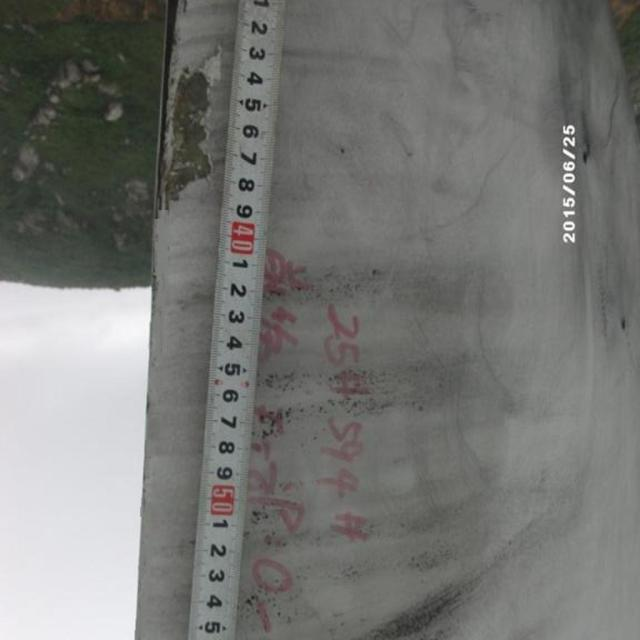surface_peeling: (151, 66, 216, 213)
